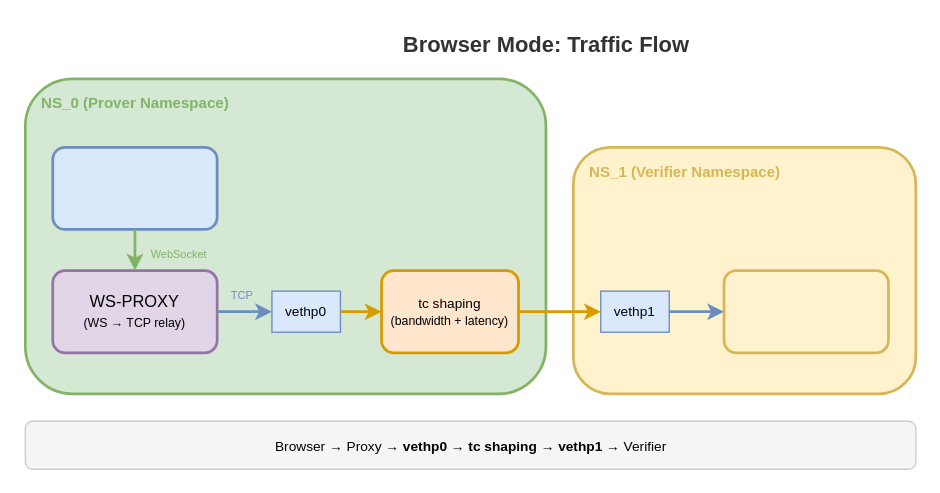
Image size: 940x493. Some labels were removed from this diagram. Here are the shapes that lost their labels. From the top down, the centre of each, then its label:
point (134, 187): BROWSER (Chrome + WASM)
point (805, 311): VERIFIER
